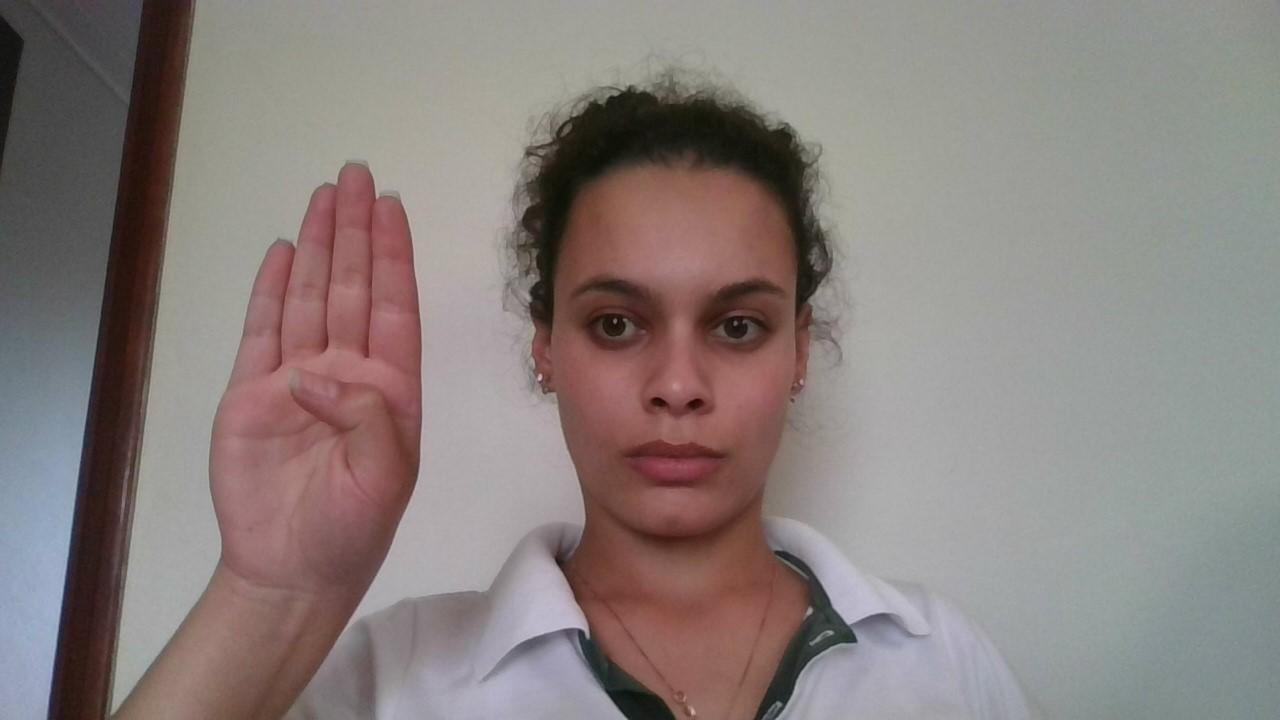B: (206, 154, 426, 602)
